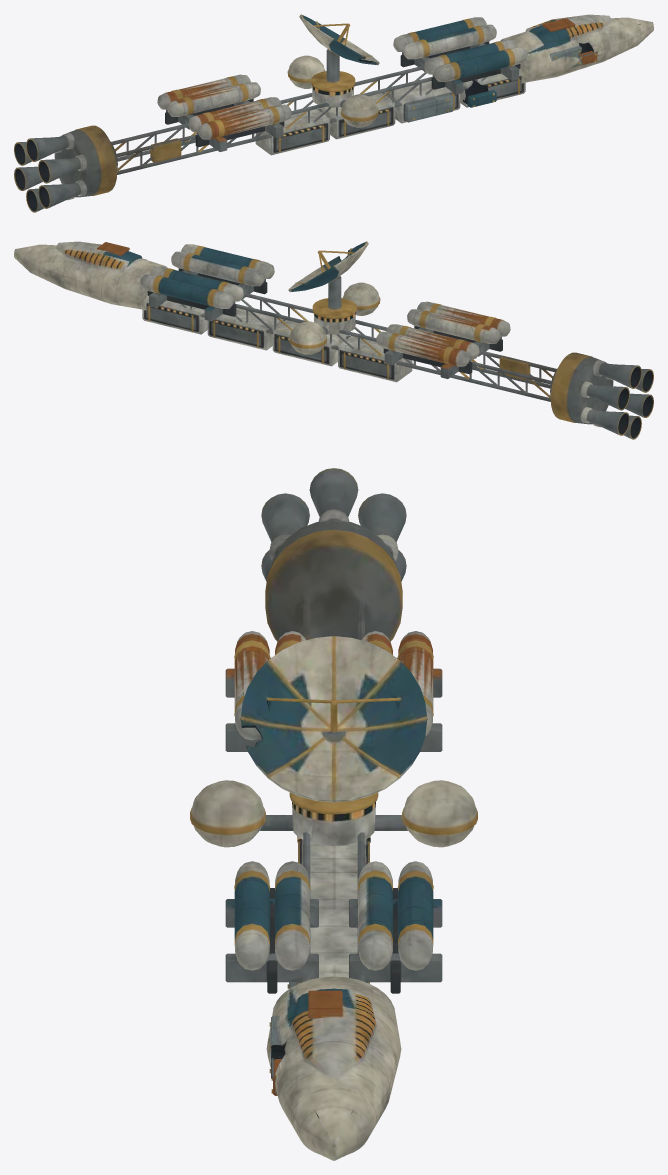
Rendered from spine-patched.glb.
3 views of the same model, one above another, from view 1: azimuth 30°, elevation 25°; view 2: azimuth 150°, elevation 25°; view 3: azimuth 270°, elevation 25° (orthographic). The views are drawn at different scales.
Visible parts, largest first — view 1: spine-patched; view 2: spine-patched; view 3: spine-patched.
Boxes of the visible parts, x1,y1,x2,y2 form: spine-patched: (14, 14, 653, 212); spine-patched: (14, 241, 653, 439); spine-patched: (190, 468, 477, 1160).
Size of the model in its own units: 1 by 0.1902 by 0.2009.
1 material, 1 textured.
